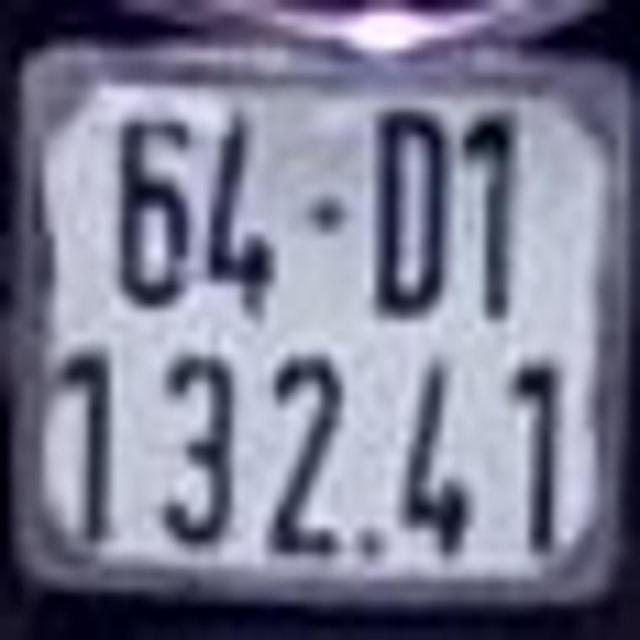1: (65, 345, 135, 545), (506, 358, 564, 556), (465, 121, 523, 314)
2: (268, 338, 352, 551)
3: (163, 343, 241, 548)
4: (398, 348, 478, 562), (207, 122, 274, 306)
6: (120, 117, 193, 300)
D: (371, 116, 448, 322)
